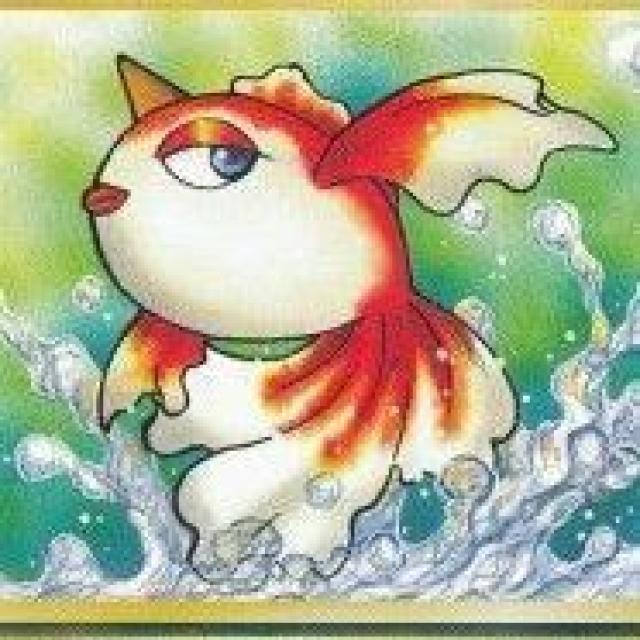Goldeen: (82, 69, 548, 488)
